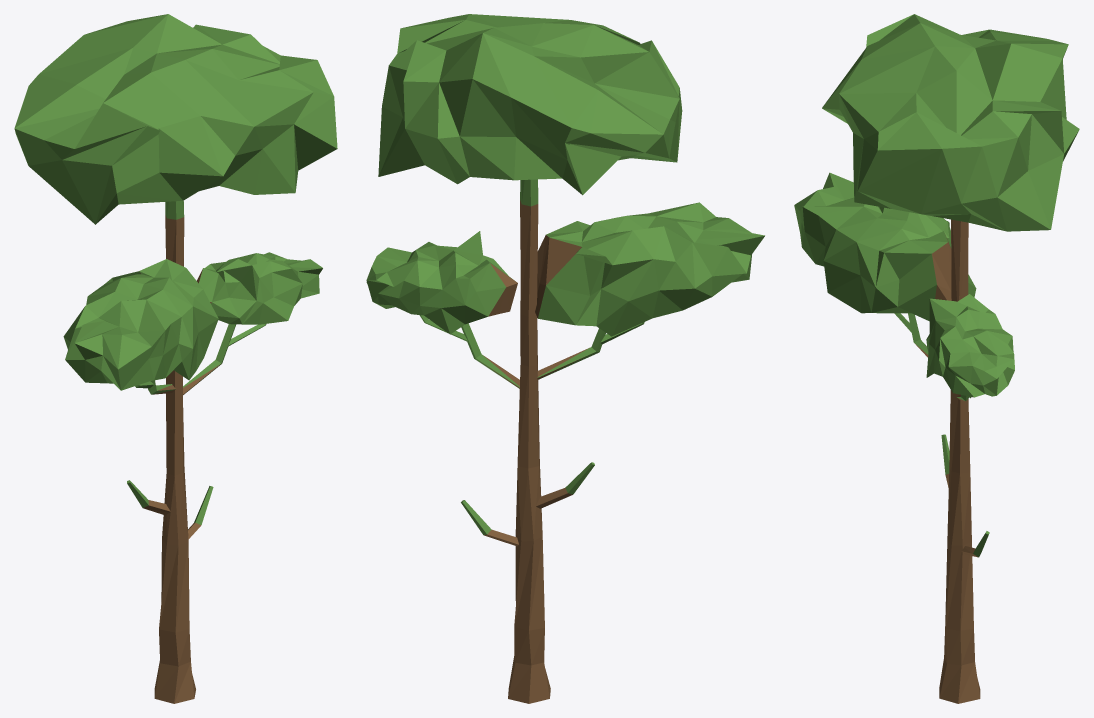
Rendered from tree3d-054.glb.
3 views of the same model, side by side, from view 1: azimuth 30°, elevation 25°; view 2: azimuth 150°, elevation 25°; view 3: azimuth 270°, elevation 25° (orthographic). The views are drawn at different scales.
Parts seen in each view (by area): view 1: tree3d-054; view 2: tree3d-054; view 3: tree3d-054.
Part boxes in pixels (<box>): tree3d-054: <box>14,14,337,703</box>; tree3d-054: <box>366,14,764,703</box>; tree3d-054: <box>794,14,1079,703</box>.
Size of the model in its own units: 0.5035 by 1 by 0.3924.
